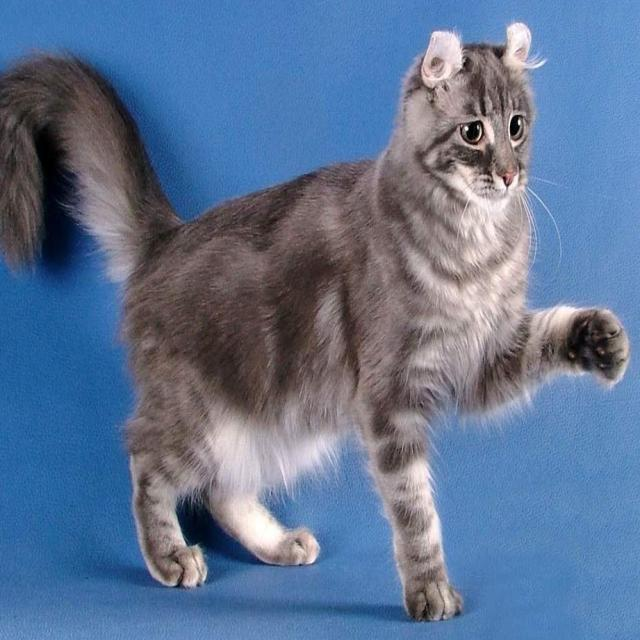American Curl: (0, 16, 630, 630)
